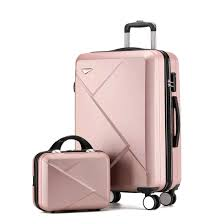suitcase: (74, 20, 185, 210)
